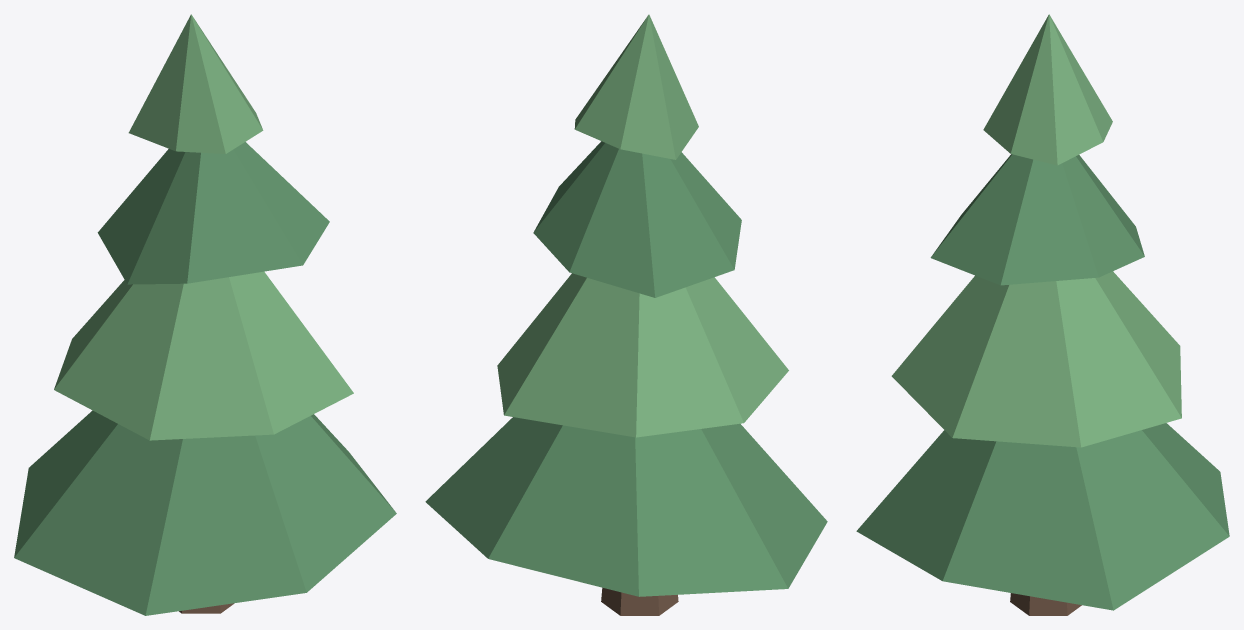
The model's file is tree-pine.glb.
3 renders of one model, left to right at view 1: azimuth 30°, elevation 25°; view 2: azimuth 150°, elevation 25°; view 3: azimuth 270°, elevation 25°, orthographic.
Parts seen in each view (by area): view 1: Tree_Pine; view 2: Tree_Pine; view 3: Tree_Pine.
Part boxes in pixels (x1,y1,x2,y2): Tree_Pine: [14, 14, 396, 615]; Tree_Pine: [425, 14, 827, 615]; Tree_Pine: [856, 14, 1229, 615].
Bounding box in the file's own units: 2.09 × 3.36 × 1.95.
